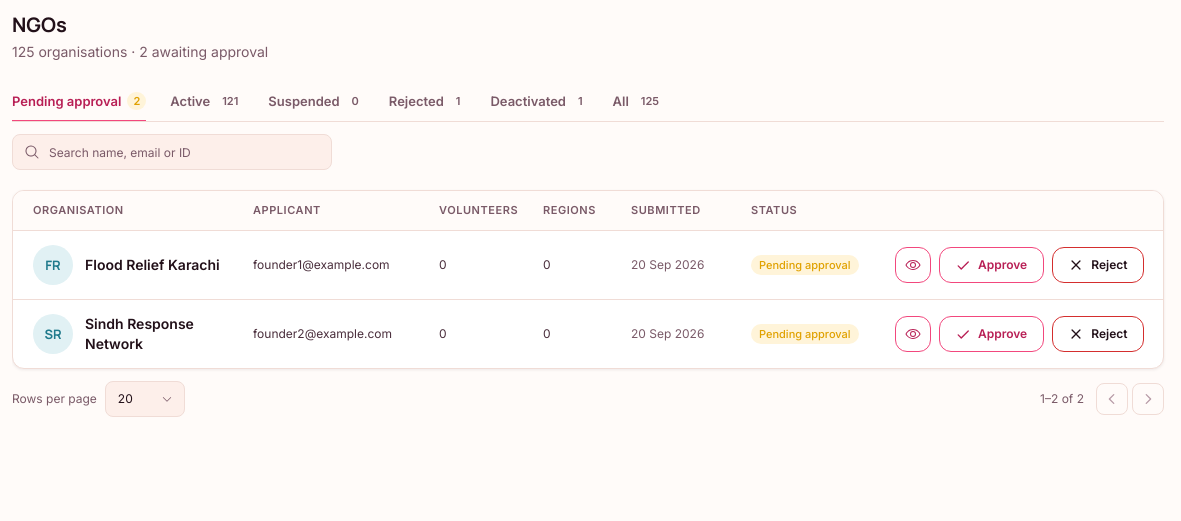
Scenario: NgosPage › tabs and search › says nothing matches a search, and "Clear search" restores the tab
Check: the text "Flood Relief Karachi" is shown, box [85,255,220,275]
Type "zzzz" into the search field named "Search organisations".
click(172, 152); type("zzzz")  # box [12,134,332,170]
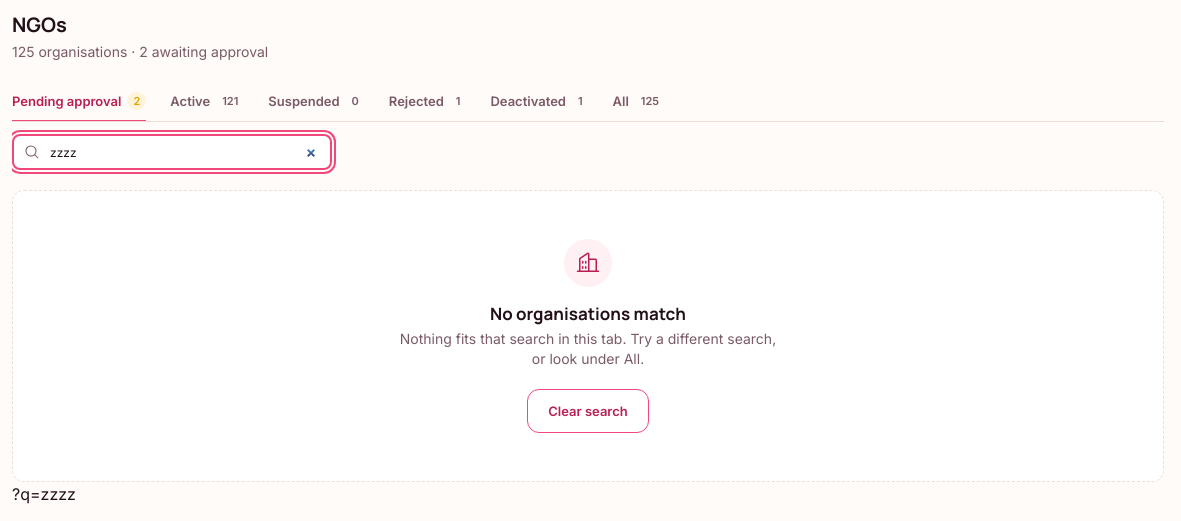
Check: the heading "No organisations match" is shown, box [490,303,686,325]
Click the button named "Clear search".
click(588, 411)  # box [527,389,649,433]
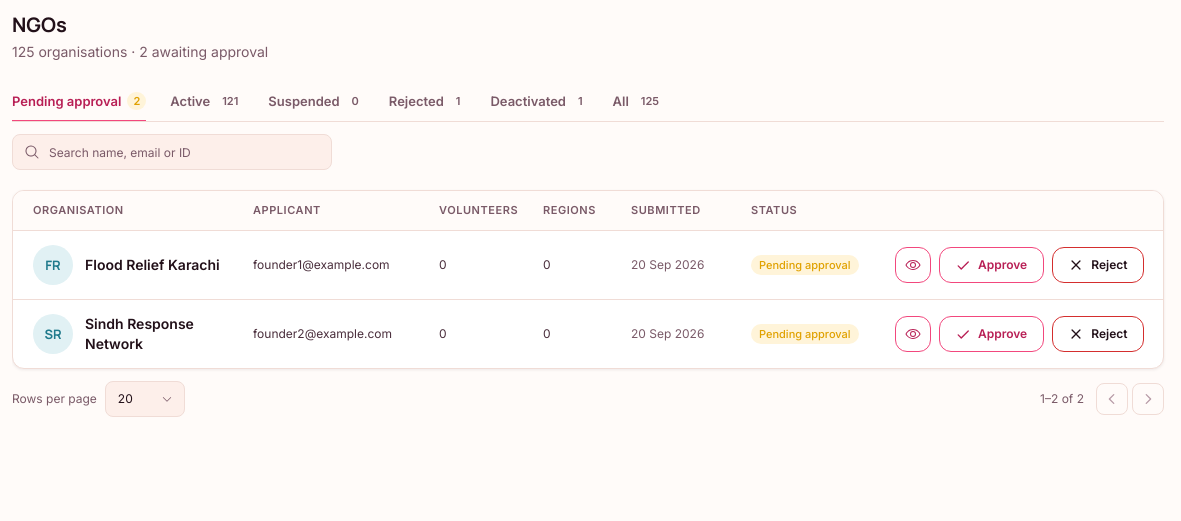
Check: the text "Flood Relief Karachi" is shown, box [85,255,220,275]
Check: the search field named "Search organisations" is empty, box [12,134,332,170]
